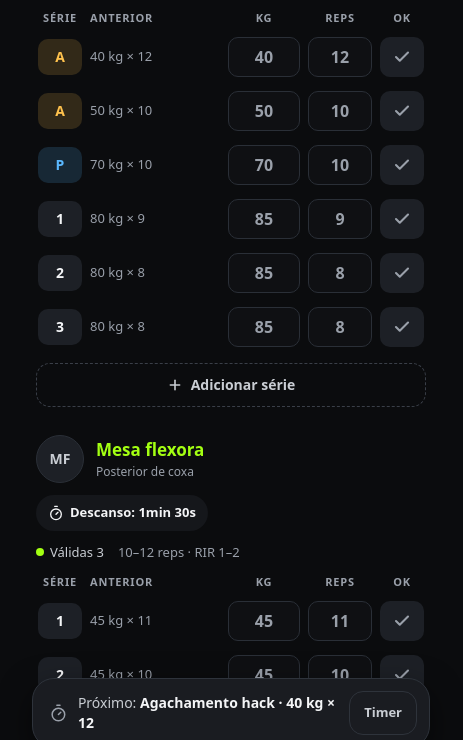
Test: Treino em andamento › adicionar série aumenta as válidas do exercício
(page scrolled)
Click the button "Adicionar série" below "80 kg × 9" at x=231, y=385, box [36,363,426,407]
(page scrolled)
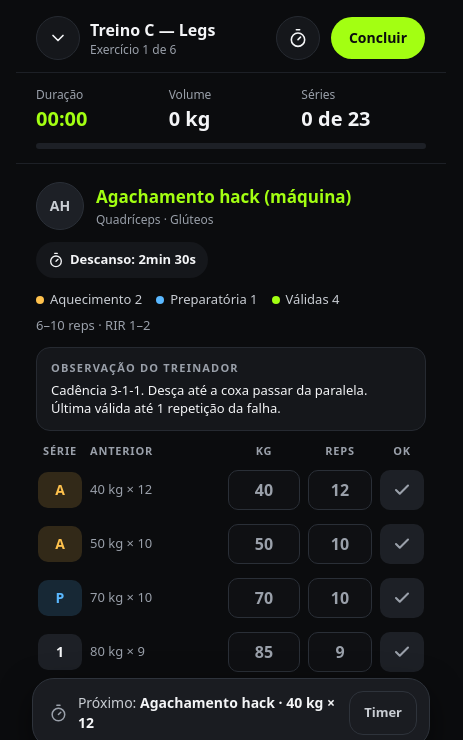
Expected: the text "Válidas 4" is shown, [272,290,340,310]
Expected: the text "0 de 23" is shown, [301,105,370,132]
